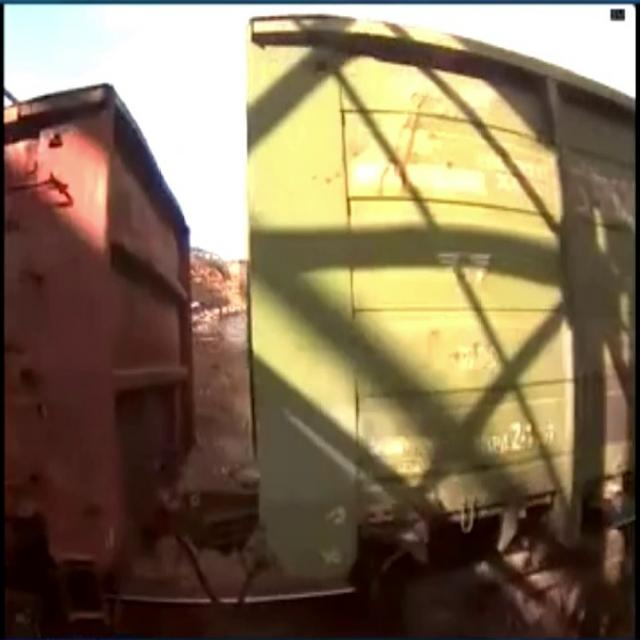gondola: (230, 0, 640, 640), (0, 66, 210, 634)
